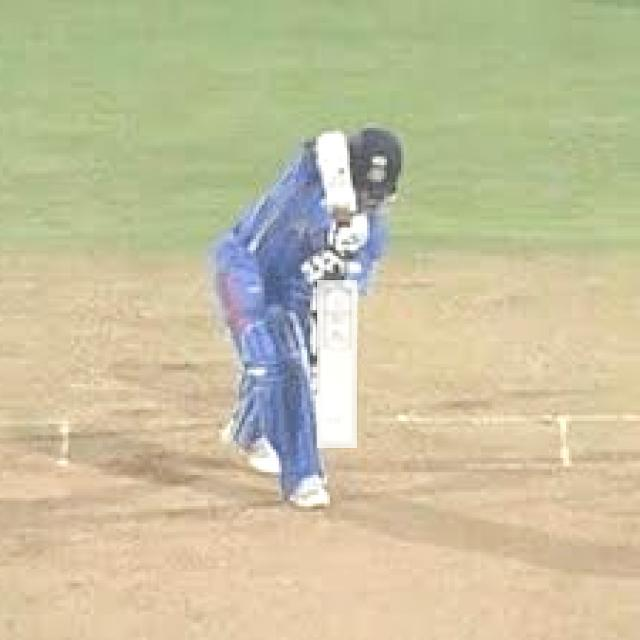bat: (316, 286, 361, 447)
toe: (311, 435, 372, 455)
